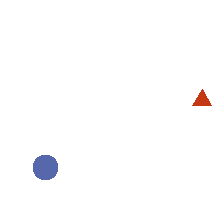circle: (33, 155, 57, 179)
triangle: (192, 89, 211, 105)
